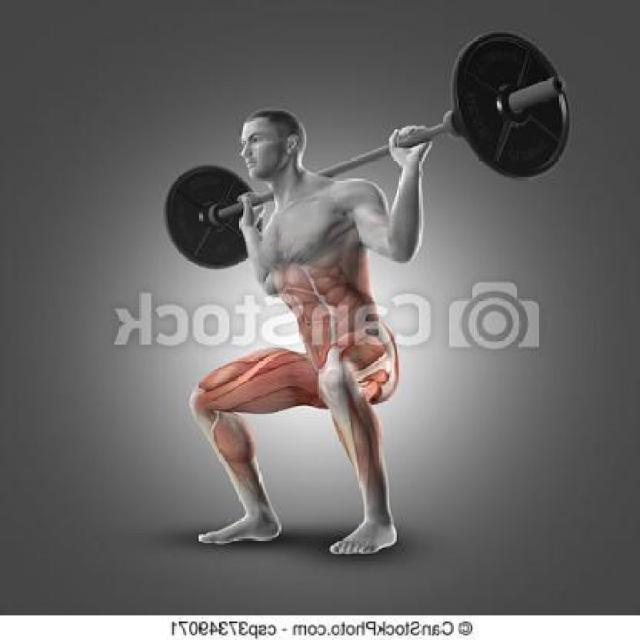Barbell: (547, 74, 567, 97)
